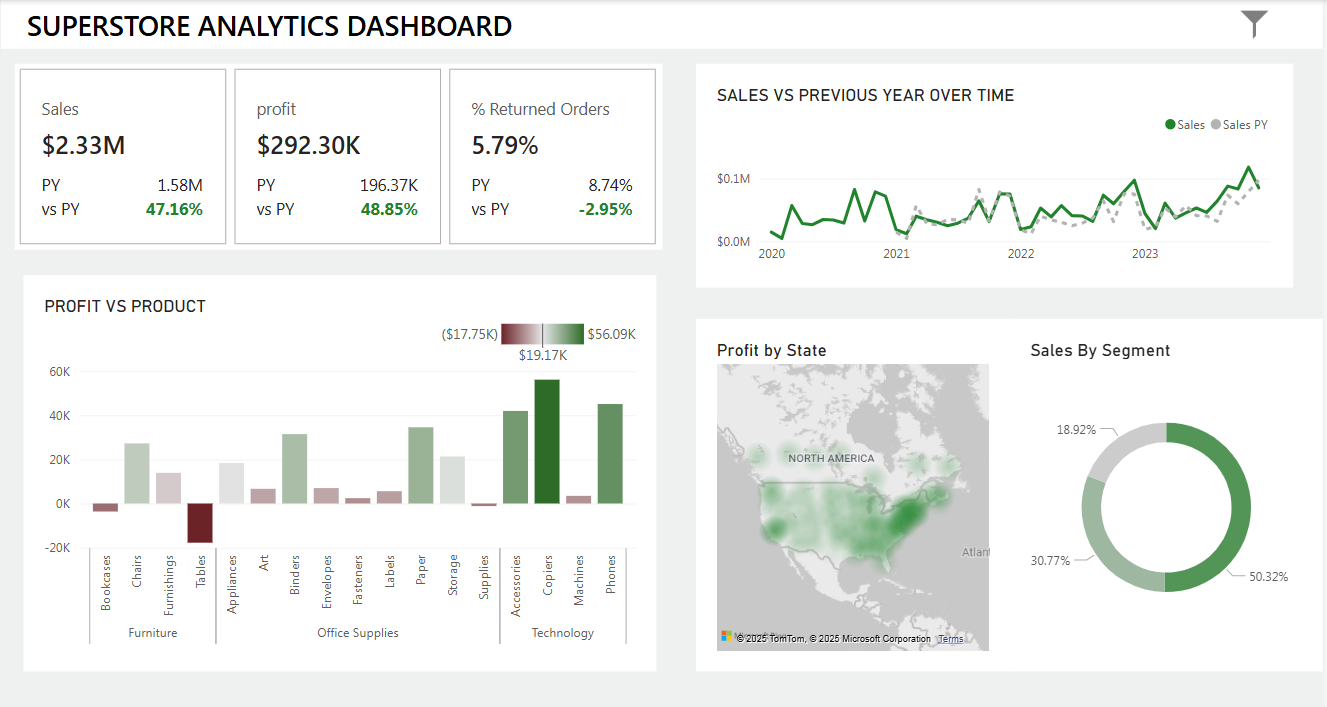

The dashboard page shown, as its layout file describes it:
{"tool":"powerbi","page":{"name":"Page 1","canvas":[1280,720],"ordinal":0},"visuals":[{"type":"image","title":"Filter","box":[1178,0,72,48],"z":0,"group":"g1"},{"type":"cardVisual","fields":{"Data":["Key Measures.Sales","Key Measures.profit","Key Measures.% Returned Orders"]},"box":[12.9,61.4,627.1,180],"z":0},{"type":"shape","box":[0,0,1280,47.5],"z":1000},{"type":"lineChart","title":"SALES VS PREVIOUS YEAR OVER TIME","fields":{"Y":["Key Measures.Sales","Key Measures.Sales PY"],"Category":["Date Table.Start of month"]},"box":[672.9,61.4,578.6,217.1],"z":2000},{"type":"columnChart","title":"PROFIT VS PRODUCT","fields":{"Category":["Orders.Category","Orders.Sub-Category"],"Y":["Sum(Orders.Profit)"]},"box":[21.4,265.7,612.9,384.3],"z":3000},{"type":"map","title":"Profit by State","fields":{"Size":["Key Measures.profit"],"Category":["Orders.State/Province"]},"box":[672.9,308.6,304.3,341.4],"z":4000},{"type":"donutChart","title":"Sales  By Segment","fields":{"Y":["Key Measures.Sales"],"Category":["Orders.Segment"]},"box":[976.7,308.3,303.3,341.7],"z":5000},{"type":"group","id":"g1","title":"slicer panel","box":[528,0,750,604],"z":6000}]}

Visuals, with their boxes on the page's 1280x720 design canvas (x1, y1, x2, y2). These are canvas units, not pixel positions in the 1327x707 screenshot, which may show the page scaled, cropped or inside an application window:
"Filter" image: (left=1178, top=0, right=1250, bottom=48)
cardVisual - Key Measures.Sales x Key Measures.profit: (left=13, top=61, right=640, bottom=241)
shape: (left=0, top=0, right=1280, bottom=48)
"SALES VS PREVIOUS YEAR OVER TIME" lineChart: (left=673, top=61, right=1252, bottom=278)
"PROFIT VS PRODUCT" columnChart: (left=21, top=266, right=634, bottom=650)
"Profit by State" map: (left=673, top=309, right=977, bottom=650)
"Sales  By Segment" donutChart: (left=977, top=308, right=1280, bottom=650)
"slicer panel" group: (left=528, top=0, right=1278, bottom=604)
